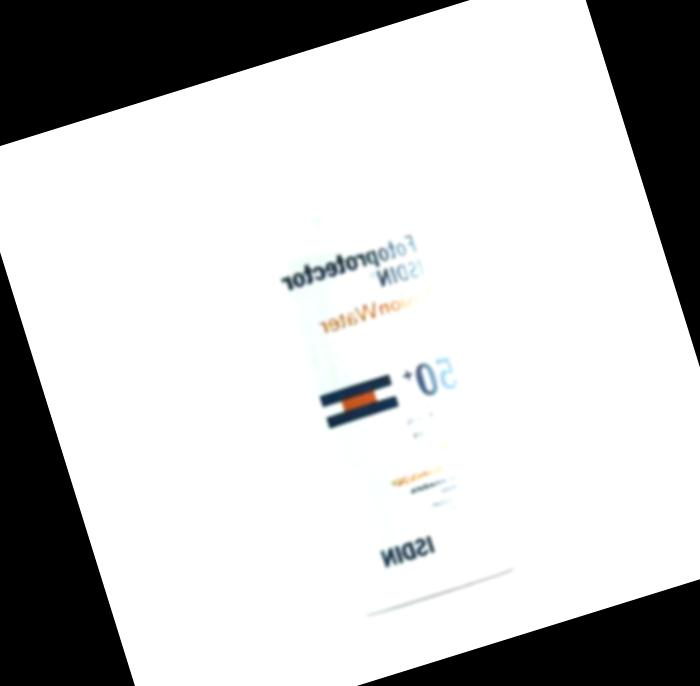cosmetic: (188, 95, 544, 630)
